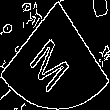M_NE: (30, 20, 80, 90)
